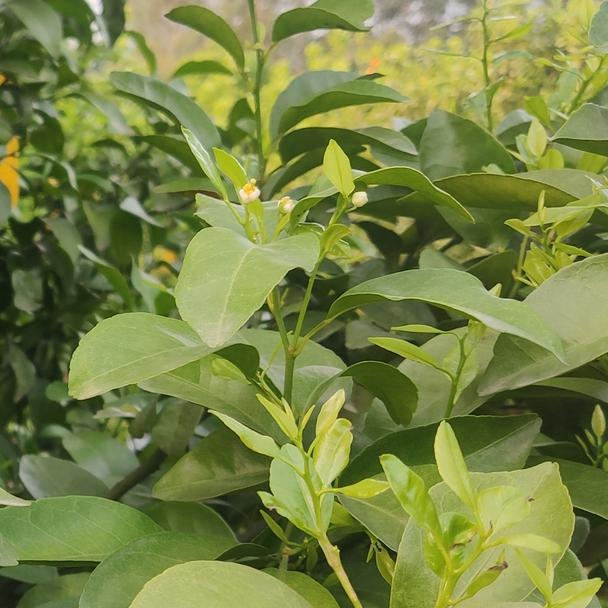shoot: (222, 395, 370, 579), (392, 430, 554, 595), (393, 305, 496, 413)
